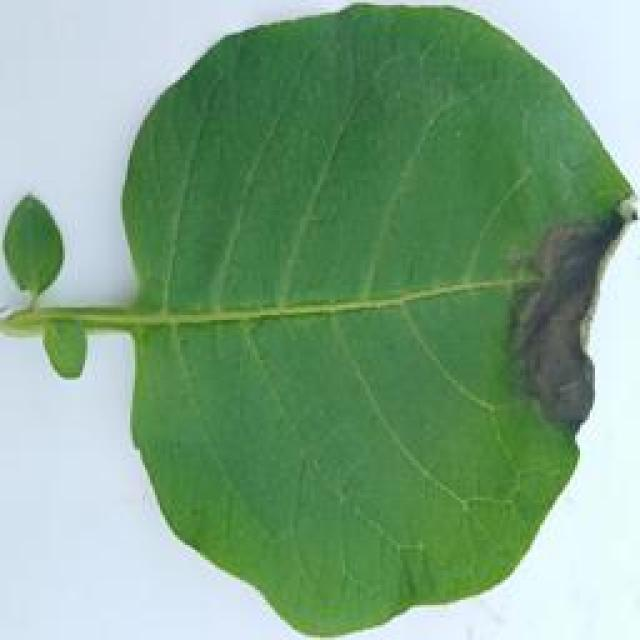Potato_Late_Blight: (6, 8, 624, 630), (2, 194, 65, 303)
